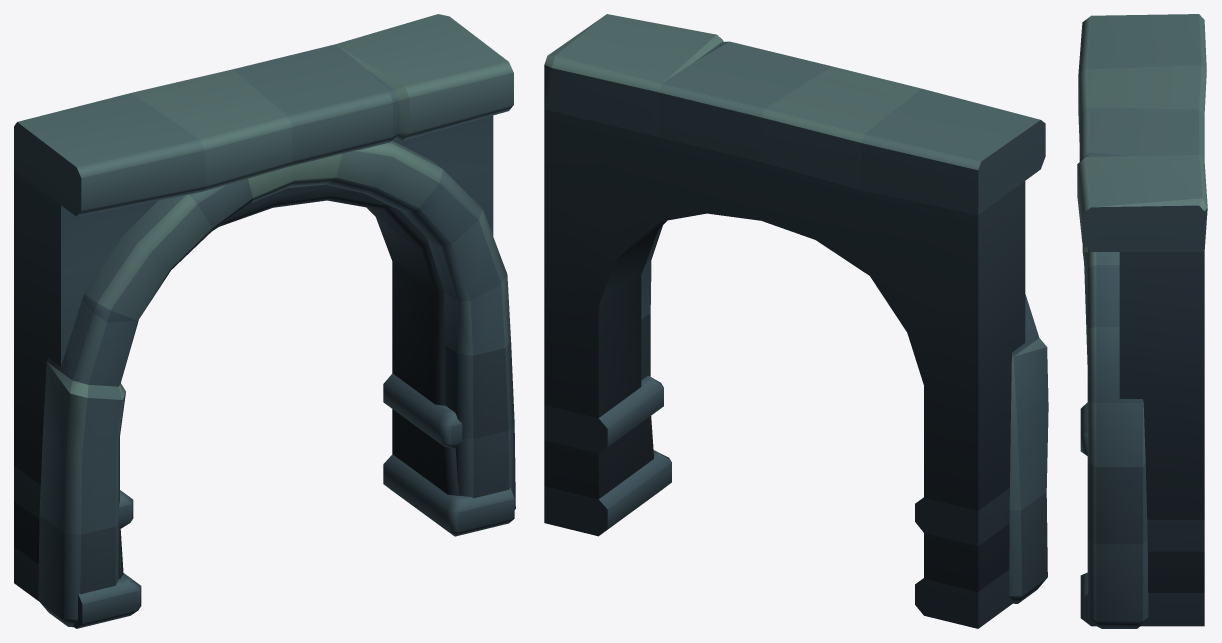
The model's file is doorway_room_to_room.fbx.
3 renders of one model, left to right at view 1: azimuth 30°, elevation 25°; view 2: azimuth 150°, elevation 25°; view 3: azimuth 270°, elevation 25°, orthographic. The views are drawn at different scales.
Visible parts, largest first — view 1: doorway_room_to_room; view 2: doorway_room_to_room; view 3: doorway_room_to_room.
Boxes of the visible parts, x1,y1,x2,y2 form: doorway_room_to_room: (14, 14, 515, 628); doorway_room_to_room: (544, 14, 1048, 628); doorway_room_to_room: (1077, 14, 1207, 628).
Bounding box in the file's own units: 418 × 414 × 115.
